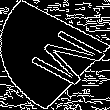M_SE: (8, 21, 102, 89)
